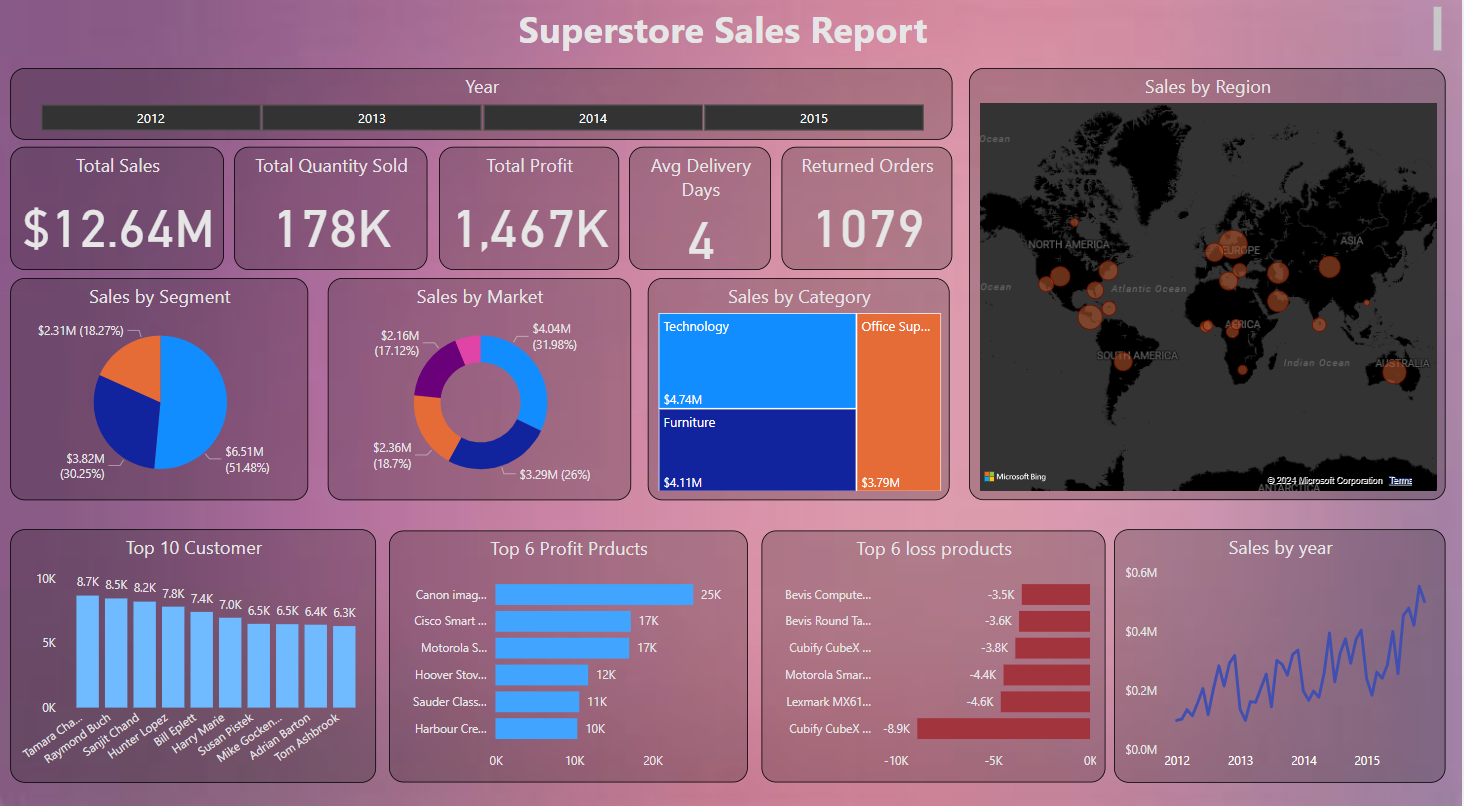

Layout of this report page (visuals, bound fields, positions):
{"tool":"powerbi","page":{"name":"Page 1","canvas":[1500,830],"ordinal":0},"visuals":[{"type":"card","title":"Total Sales","fields":{"Values":["Orders.Sales"]},"box":[11.1,152.8,219.4,126.4],"z":0},{"type":"card","title":"Total Quantity Sold","fields":{"Values":["Orders.Quantity"]},"box":[241.3,152.8,198.6,126.4],"z":1000},{"type":"card","title":"Avg Delivery Days","fields":{"Values":["Orders.Delivery Days"]},"box":[646.2,152.8,145.8,126.4],"z":2000},{"type":"slicer","title":"Year","fields":{"Values":["Orders.Year"]},"box":[11.1,72.2,966.7,73.6],"z":3000},{"type":"card","title":"Returned Orders","fields":{"Values":["Returns.Return Orders"]},"box":[802.8,152.8,175,126.4],"z":4000},{"type":"map","title":"Sales by Region","fields":{"Size":["Orders.Sales"],"Category":["Orders.Region"]},"box":[994.4,72.2,488.9,443.1],"z":5000},{"type":"clusteredBarChart","title":"Top 6 Profit Prducts","fields":{"Y":["Orders.Profit"],"Category":["Orders.Product Name"]},"box":[400,545.8,368.1,258.3],"z":6000},{"type":"clusteredBarChart","title":"Top 6 loss products","fields":{"Y":["Orders.Profit"],"Category":["Orders.Product Name"]},"box":[781.9,545.8,352.8,258.3],"z":7000},{"type":"pieChart","title":"Sales by Segment","fields":{"Category":["Orders.Segment"],"Y":["Orders.Sales"]},"box":[11.1,287.5,305.6,227.8],"z":8000},{"type":"donutChart","title":"Sales by Market","fields":{"Y":["Orders.Sales"],"Category":["Orders.Market"]},"box":[337.5,287.5,311.1,227.8],"z":9000},{"type":"clusteredColumnChart","title":"Top 10 Customer","fields":{"Category":["Orders.Customer Name"],"Y":["Orders.Profit"]},"box":[11.1,544.4,375,259.7],"z":10000},{"type":"treemap","title":"Sales by Category","fields":{"Values":["Orders.Sales"],"Group":["Orders.Category"]},"box":[665.3,287.5,309.7,227.8],"z":11000},{"type":"lineChart","title":"Sales by year","fields":{"Y":["Orders.Sales"],"Category":["Orders.Order Date.Variation.Date Hierarchy.Year","Orders.Order Date.Variation.Date Hierarchy.Month"]},"box":[1143.1,544.4,340.3,259.7],"z":12000},{"type":"textbox","box":[8.3,2.8,1475,56.9],"z":12001},{"type":"card","title":"Total Profit","fields":{"Values":["Orders.Profit"]},"box":[450.7,152.8,184.7,126.4],"z":12002}]}

Visuals, with their boxes in screenshot pixels (x1, y1, x2, y2), scaled from the page's 1500x830 canvas onto the 1464x806 screenshot:
"Total Sales" card: <region>11, 148, 225, 271</region>
"Total Quantity Sold" card: <region>236, 148, 429, 271</region>
"Avg Delivery Days" card: <region>631, 148, 773, 271</region>
"Year" slicer: <region>11, 70, 954, 142</region>
"Returned Orders" card: <region>784, 148, 954, 271</region>
"Sales by Region" map: <region>971, 70, 1448, 500</region>
"Top 6 Profit Prducts" clusteredBarChart: <region>390, 530, 750, 781</region>
"Top 6 loss products" clusteredBarChart: <region>763, 530, 1107, 781</region>
"Sales by Segment" pieChart: <region>11, 279, 309, 500</region>
"Sales by Market" donutChart: <region>329, 279, 633, 500</region>
"Top 10 Customer" clusteredColumnChart: <region>11, 529, 377, 781</region>
"Sales by Category" treemap: <region>649, 279, 952, 500</region>
"Sales by year" lineChart: <region>1116, 529, 1448, 781</region>
textbox: <region>8, 3, 1448, 58</region>
"Total Profit" card: <region>440, 148, 620, 271</region>
